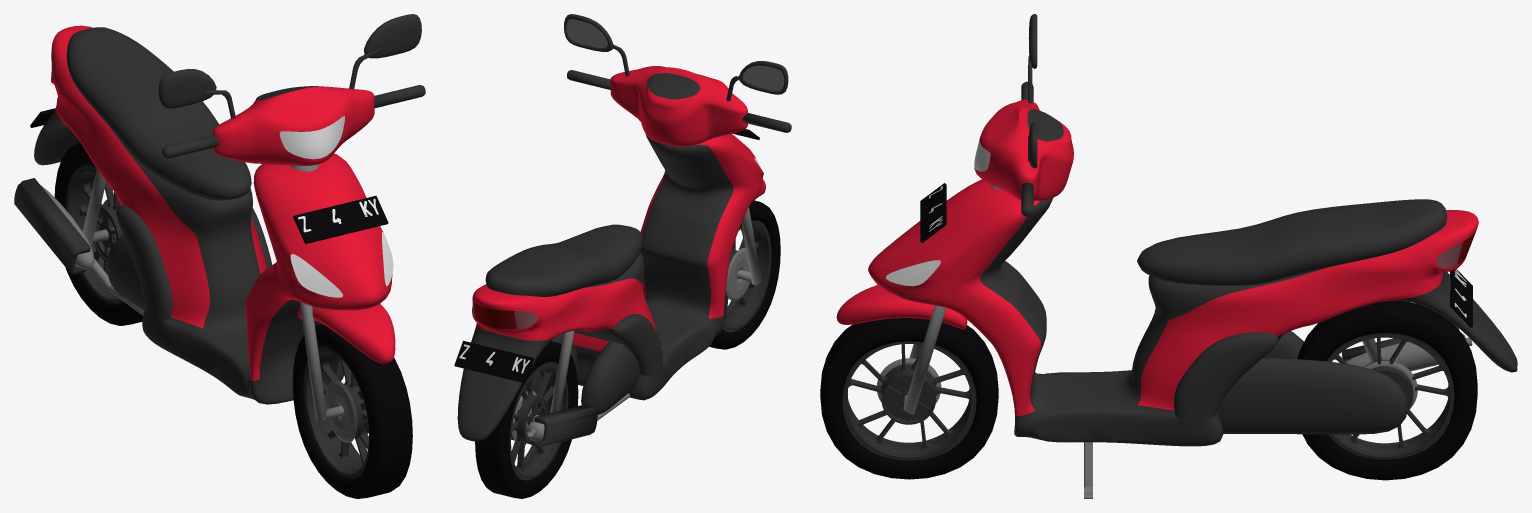
File: motor.glb
The picture shows the model from 3 angles, left to right: view 1: azimuth 30°, elevation 25°; view 2: azimuth 150°, elevation 25°; view 3: azimuth 270°, elevation 25°; orthographic projection. The views are drawn at different scales.
Visible parts, largest first — view 1: Cube.002, Cube, Solid1, Cylinder, Cube.017, Cube.019; view 2: Cube.002, Cube, Solid1, Cylinder, Cube.019, Cube.014; view 3: Cube.002, Cube, Solid1, Cylinder, Cube.019, Cube.017.
Boxes of the visible parts, x1,y1,x2,y2 form: Cube.002: (14, 14, 425, 404); Cube: (54, 142, 412, 498); Solid1: (66, 165, 369, 478); Cylinder: (41, 164, 357, 442); Cube.017: (279, 116, 393, 297); Cube.019: (30, 57, 388, 243); Cube.002: (457, 14, 791, 446); Cube: (475, 200, 780, 498); Solid1: (509, 220, 771, 480); Cylinder: (512, 207, 761, 441); Cube.019: (454, 129, 759, 383); Cube.014: (566, 18, 784, 91); Cube.002: (836, 14, 1517, 446); Cube: (820, 300, 1477, 480); Solid1: (842, 333, 1454, 460); Cylinder: (877, 184, 1472, 498); Cube.019: (920, 183, 1475, 327); Cube.017: (885, 138, 990, 286).
Bounding box in the file's own units: 2 × 2.92 × 4.6.
7 materials, 7 textured.
